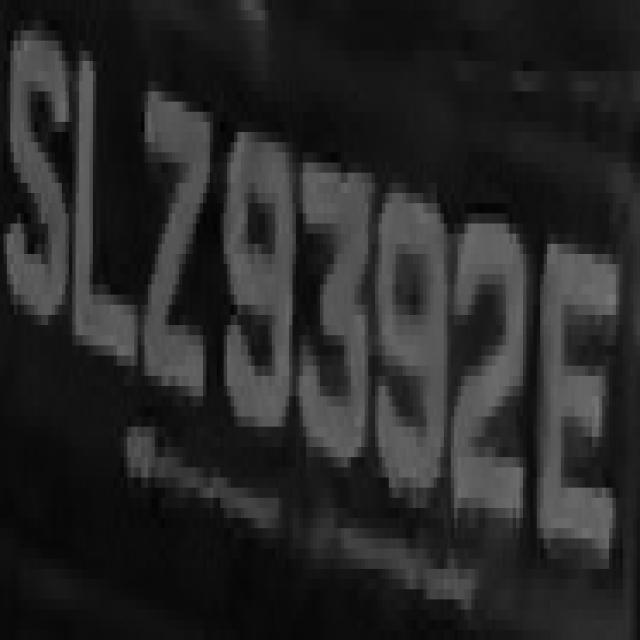2: (451, 162, 544, 558)
3: (300, 122, 386, 518)
9: (379, 152, 454, 559), (217, 112, 299, 477)
E: (544, 162, 626, 630)
L: (69, 41, 144, 406)
S: (17, 10, 72, 356)
Z: (144, 51, 223, 427)
